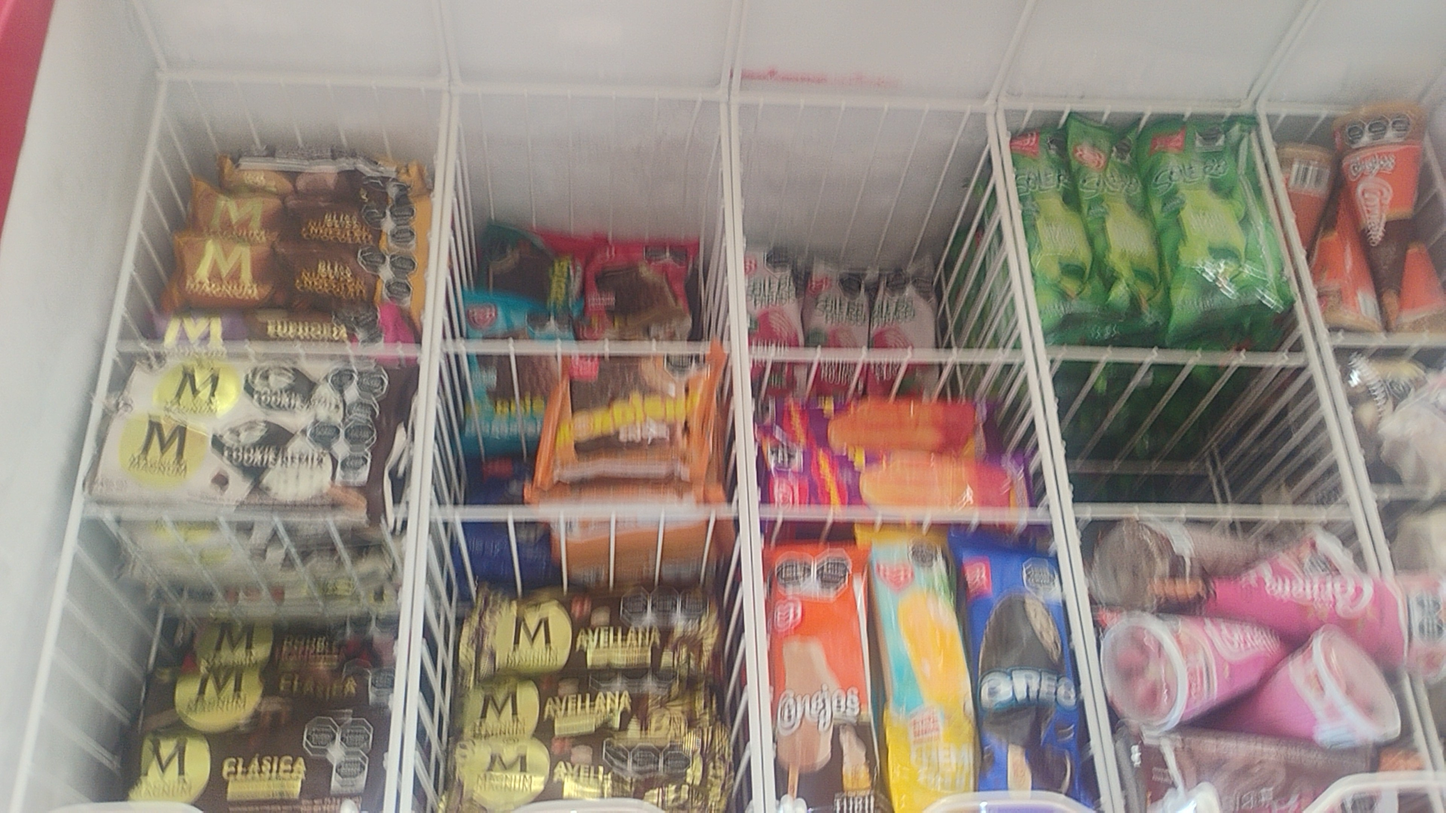rejilla: (11, 86, 166, 812), (999, 112, 1123, 811), (989, 116, 1111, 812), (1260, 115, 1392, 570), (1253, 138, 1378, 572), (386, 94, 449, 812), (403, 98, 458, 813), (733, 106, 774, 812), (722, 103, 762, 812), (456, 84, 726, 99), (164, 73, 447, 86), (735, 97, 992, 110), (83, 507, 344, 518), (1050, 354, 1304, 364), (1002, 103, 1251, 112), (1404, 679, 1430, 765), (1417, 688, 1443, 765), (431, 513, 738, 517), (763, 516, 1049, 520), (752, 358, 1025, 362), (441, 348, 710, 352), (1426, 141, 1445, 194), (1077, 515, 1352, 518), (1261, 106, 1348, 114), (114, 348, 417, 350), (1376, 491, 1444, 494), (1334, 343, 1446, 344), (396, 514, 407, 515)
